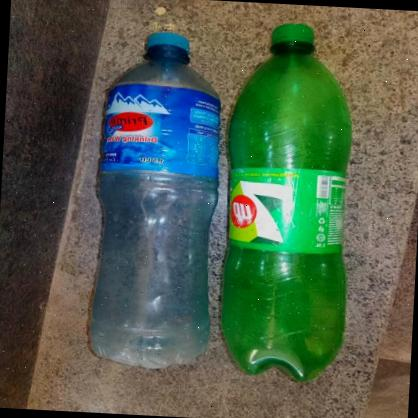bottle: (217, 21, 361, 386), (87, 27, 225, 370)
cap: (141, 31, 191, 57), (270, 22, 314, 49)
label: (98, 85, 221, 185), (227, 163, 350, 259)
